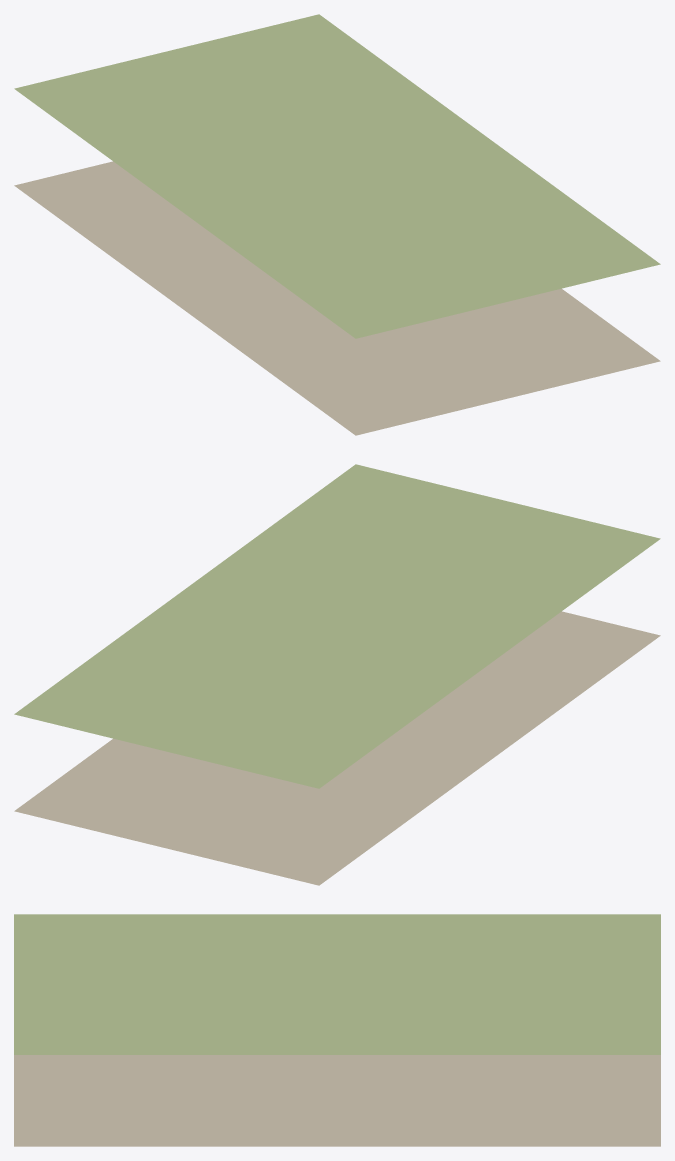
The picture shows the model from 3 angles, top to bottom: view 1: azimuth 30°, elevation 25°; view 2: azimuth 150°, elevation 25°; view 3: azimuth 270°, elevation 25°; orthographic projection. The views are drawn at different scales.
Parts seen in each view (by area): view 1: s_12_-4__grass, s_12_-4__soil; view 2: s_12_-4__grass, s_12_-4__soil; view 3: s_12_-4__grass, s_12_-4__soil.
Part boxes in pixels (x1=…): s_12_-4__grass: x1=14, y1=14, x2=660, y2=338; s_12_-4__soil: x1=14, y1=161, x2=660, y2=435; s_12_-4__grass: x1=14, y1=464, x2=660, y2=788; s_12_-4__soil: x1=14, y1=611, x2=660, y2=885; s_12_-4__grass: x1=14, y1=914, x2=660, y2=1054; s_12_-4__soil: x1=14, y1=1055, x2=660, y2=1146.
Size of the model in its own units: 66 by 20.01 by 128.
